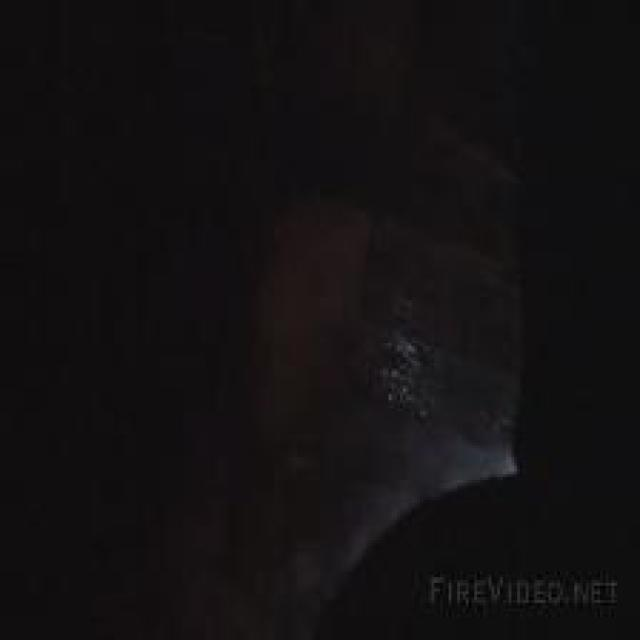other: (407, 426, 526, 486)
